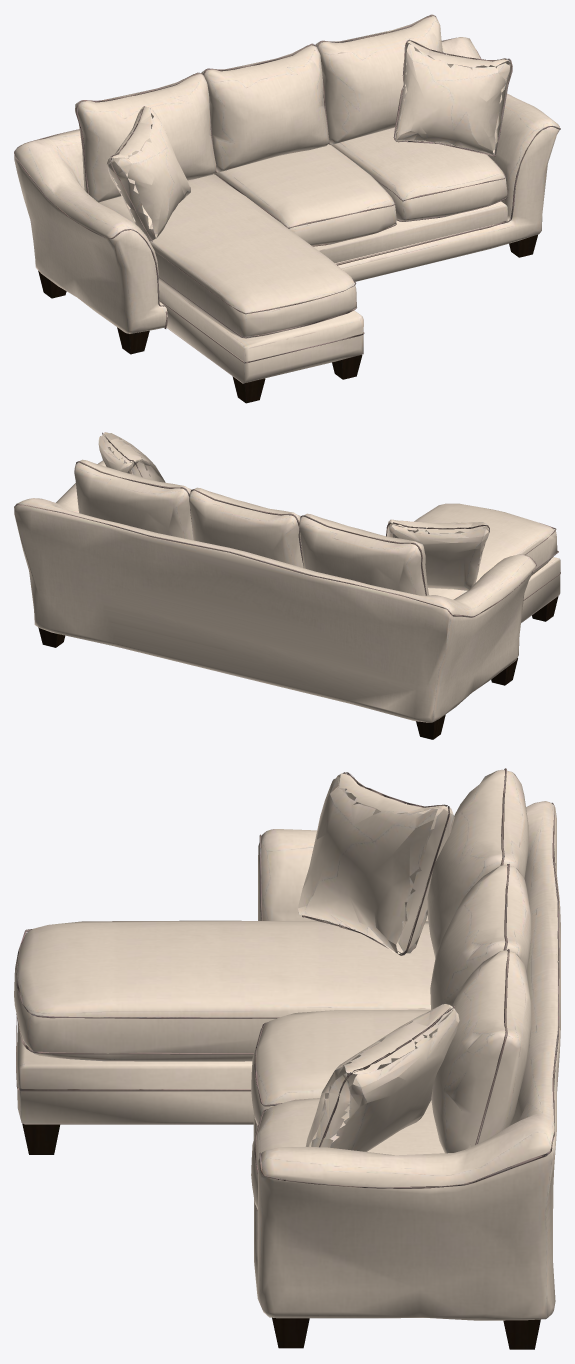
The model's file is REDUCED_29834_Foresthill_2_pieces_Microfiber_Sectional_Sofa_Light_Taupe.fbx.
The picture shows the model from 3 angles, top to bottom: view 1: azimuth 30°, elevation 25°; view 2: azimuth 150°, elevation 25°; view 3: azimuth 270°, elevation 25°; orthographic projection. The views are drawn at different scales.
Visible parts, largest first — view 1: furnitureGroup; view 2: furnitureGroup; view 3: furnitureGroup.
Part boxes in pixels (x1=…): furnitureGroup: x1=14, y1=14, x2=560, y2=403; furnitureGroup: x1=14, y1=432, x2=560, y2=739; furnitureGroup: x1=14, y1=768, x2=560, y2=1349.
Size of the model in its own units: 2396 by 962 by 1609.
Materials: 1 (1 with a texture image).
